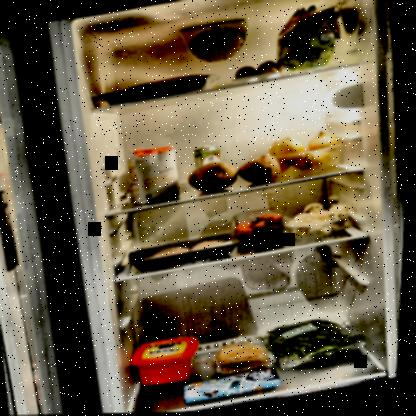butter: (131, 334, 209, 392)
chicken: (129, 231, 243, 274)
chocolate: (184, 368, 288, 405)
eggs: (231, 59, 282, 86)
green_beans: (258, 310, 372, 371)
ground_beef: (96, 71, 220, 110)
heavy_cream: (192, 142, 229, 192)
mushrooms: (285, 196, 357, 244)
onion: (262, 127, 347, 181)
spinach: (268, 0, 353, 78)
strawberries: (233, 209, 288, 245)
sweet_potato: (186, 149, 287, 197)
